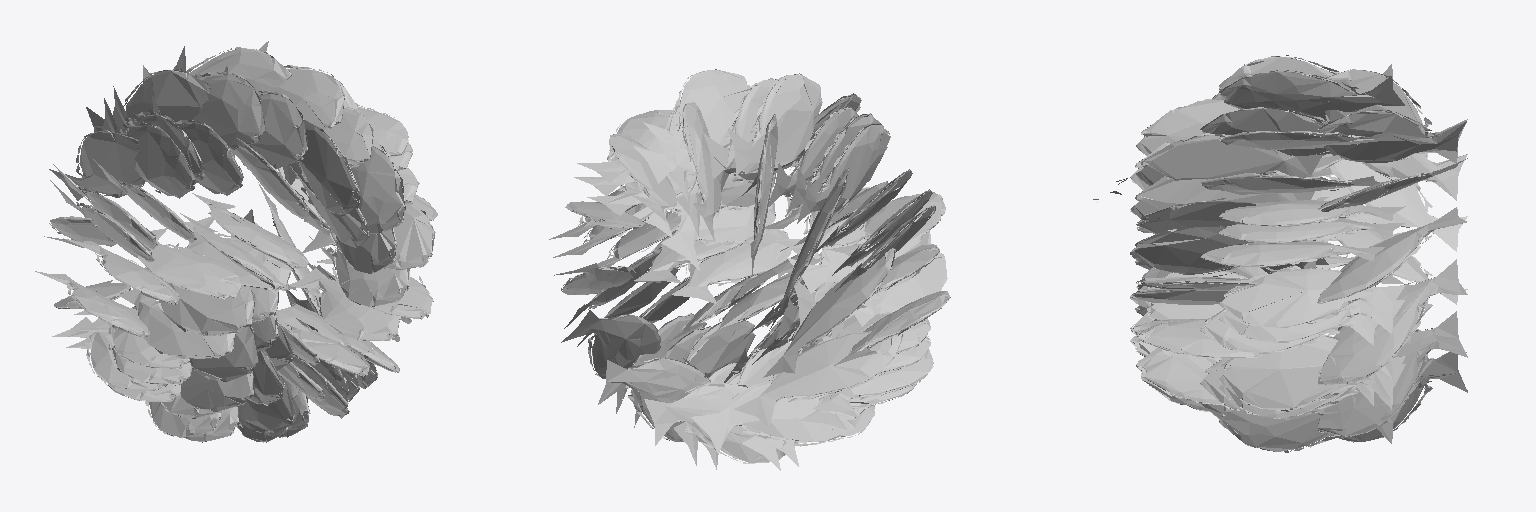
File: fish.obj
3 views of the same model, side by side, from view 1: azimuth 30°, elevation 25°; view 2: azimuth 150°, elevation 25°; view 3: azimuth 270°, elevation 25° (orthographic).
Visible parts, largest first — view 1: model_1; view 2: model_1; view 3: model_1.
Boxes of the visible parts, <box> form: model_1: <box>35,41,437,442</box>; model_1: <box>549,69,950,470</box>; model_1: <box>1093,55,1467,452</box>.
Bounding box in the file's own units: 2.8 × 2.81 × 2.65.